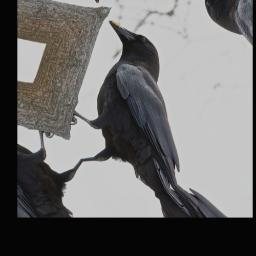Crow: (23, 8, 225, 217)
